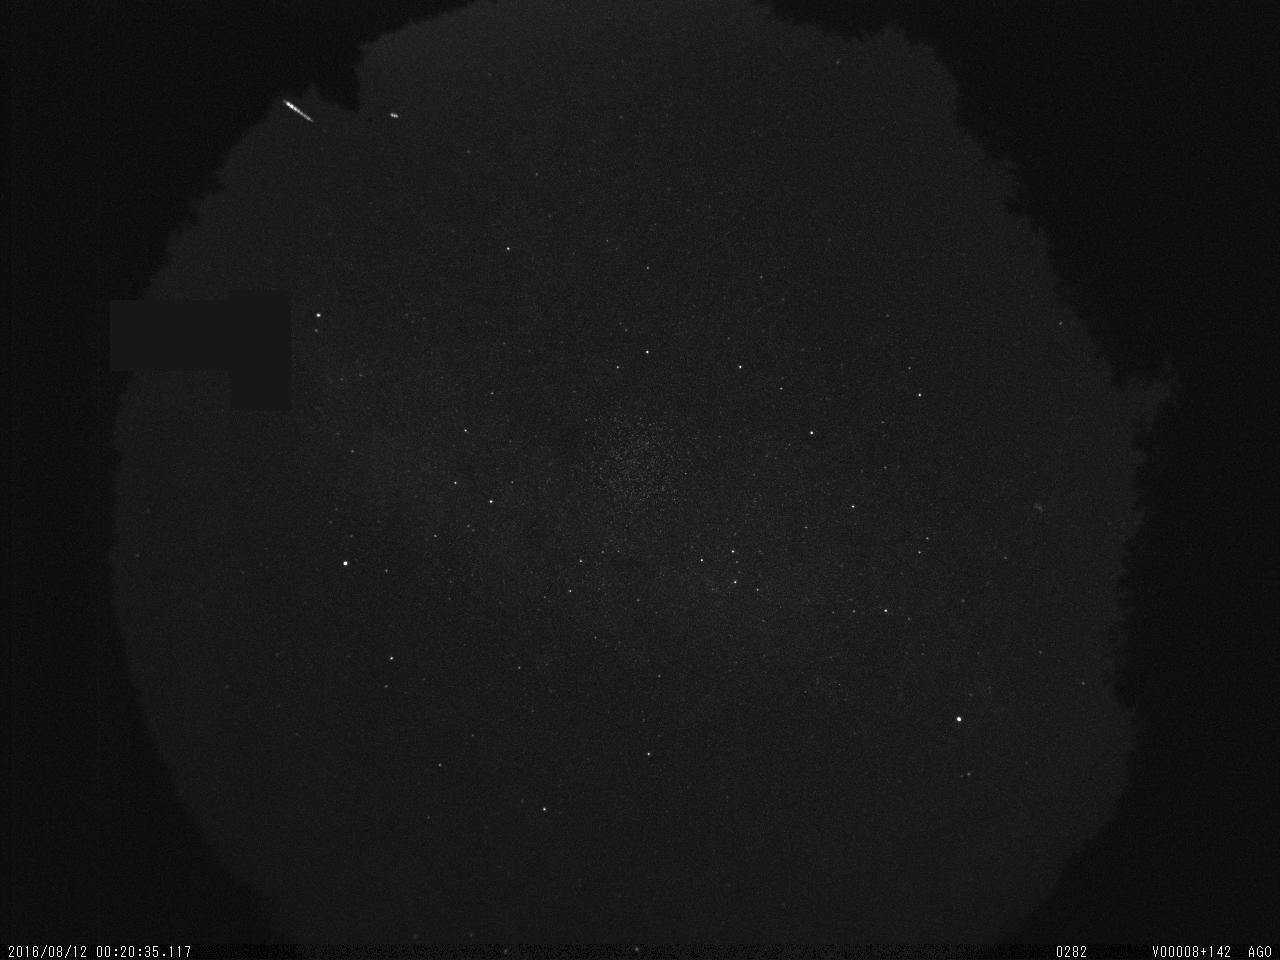meteor: (276, 92, 332, 134)
